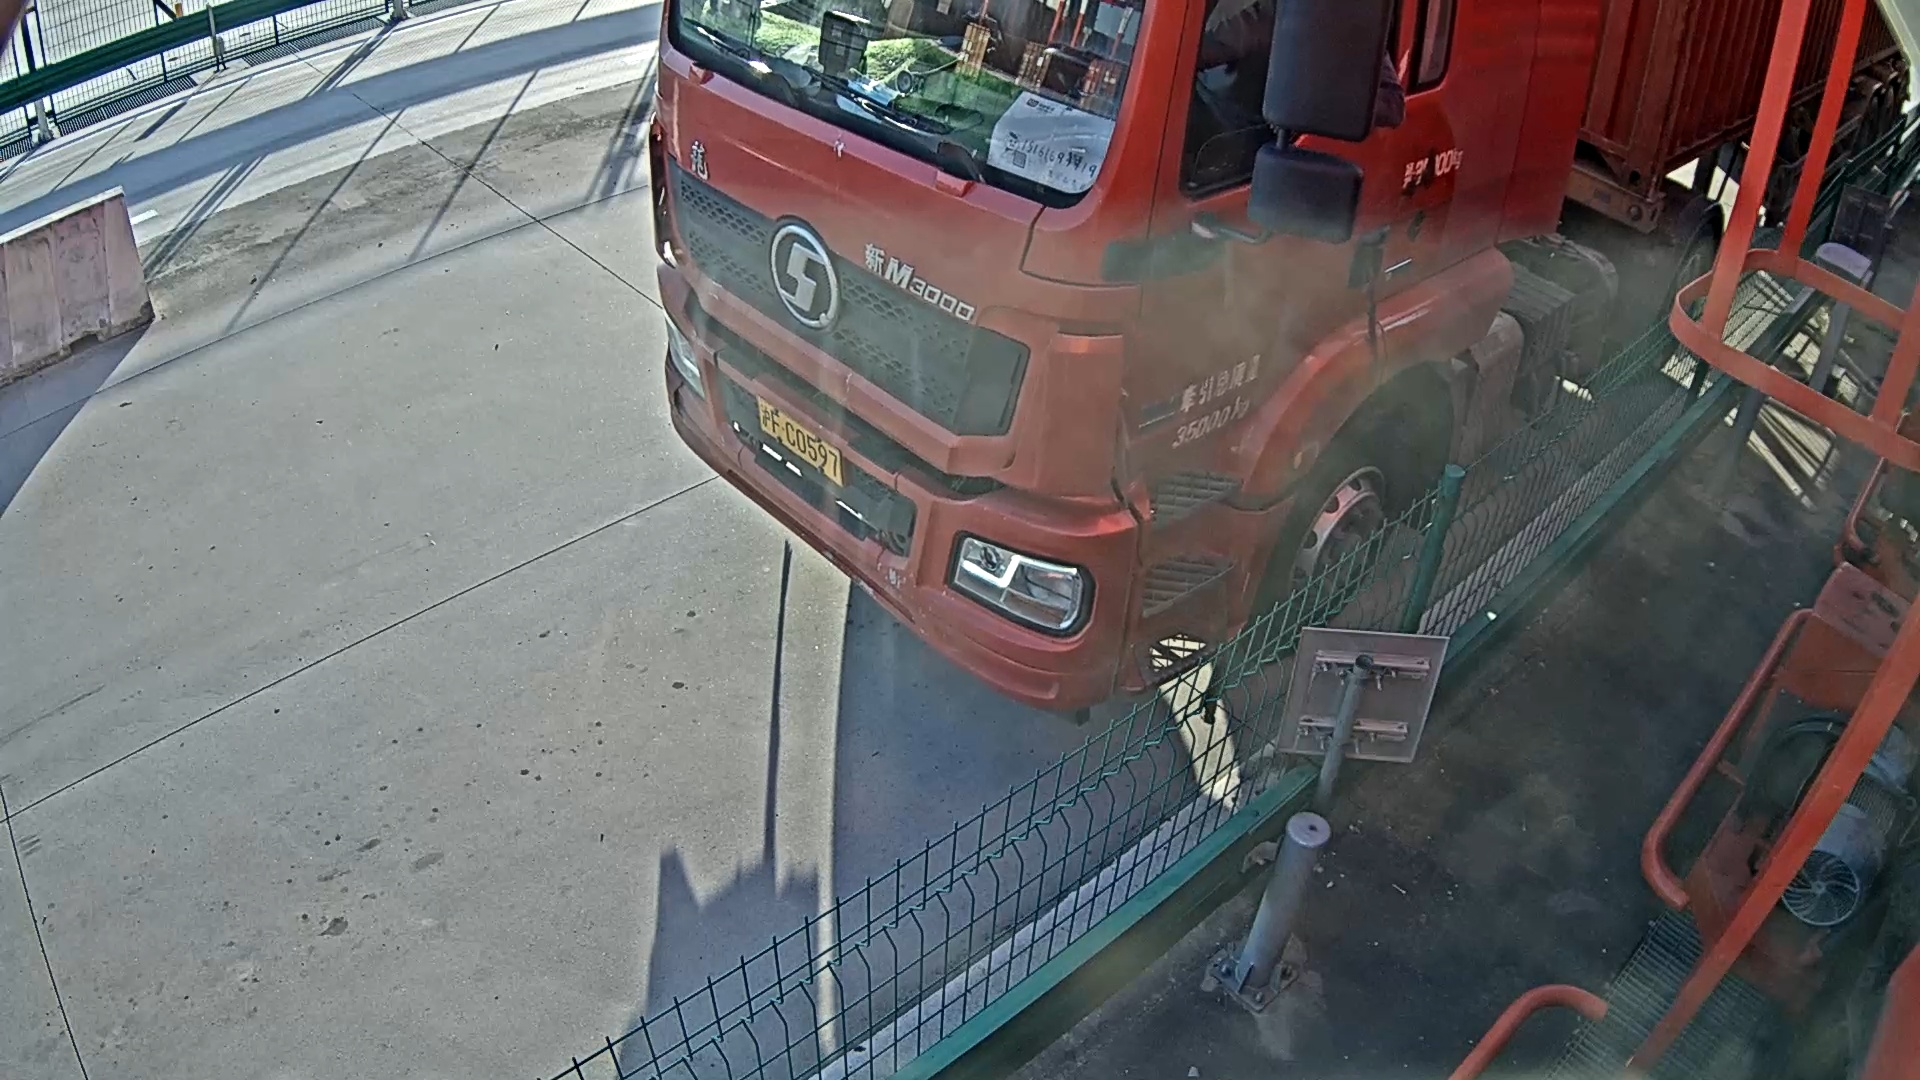head: (647, 10, 1304, 727)
plate: (746, 400, 858, 480)
